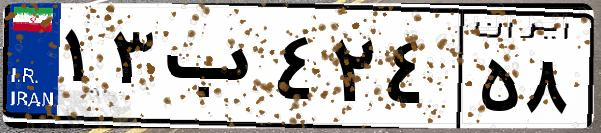1: (57, 26, 110, 100)
2: (330, 28, 385, 110)
3: (110, 28, 158, 98)
4: (270, 28, 330, 110), (385, 28, 445, 110)
5: (475, 38, 525, 113)
8: (525, 38, 570, 115)
ب: (158, 20, 270, 120)
